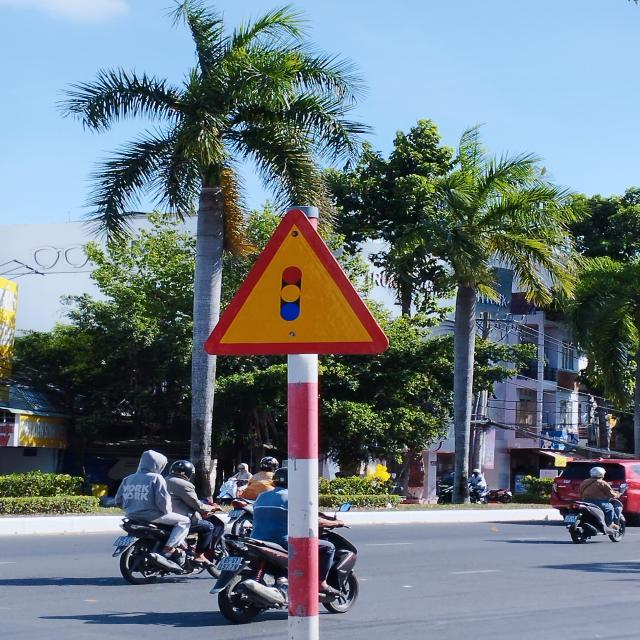Duong_Co_Go_Giam_Toc: (202, 207, 388, 356)
